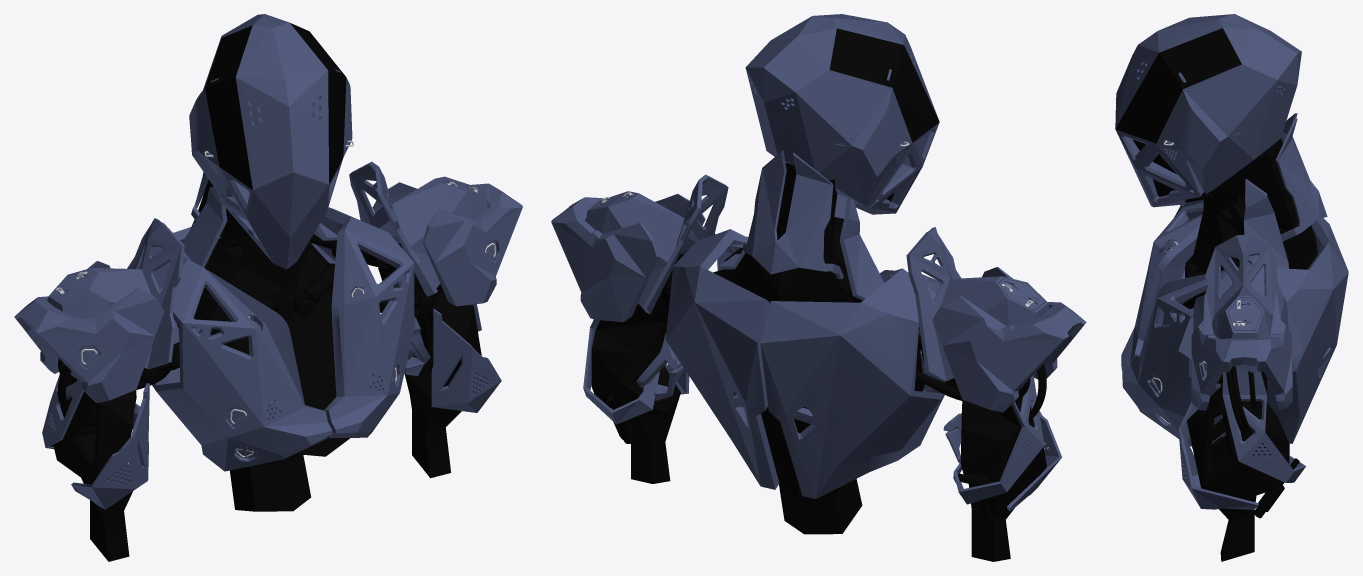
The model's file is Hero-without-animation.glb.
3 renders of one model, left to right at view 1: azimuth 30°, elevation 25°; view 2: azimuth 150°, elevation 25°; view 3: azimuth 270°, elevation 25°, orthographic. The views are drawn at different scales.
Visible parts, largest first — view 1: Line018, Empty, Cylinder003, PolyGroup006, Empty.001, PolyGroup008, Box018, eyes, PolyGroup007, Box020, PolyGroup009, Plane006 (+2 smaller); view 2: Line018, Empty, PolyGroup006, Cylinder003, PolyGroup009, PolyGroup008, Object005, Box018, PolyGroup007, Box020, Empty.001, eyes (+2 smaller); view 3: Empty, Line018, PolyGroup009, Box020, PolyGroup008, Cylinder003, eyes, Empty.001, Object005, Plane006, Line002, Damper022 (+3 smaller).
Boxes of the visible parts, box(x1,y1,x2,y2) form: Line018: box(151, 207, 414, 471); Empty: box(189, 14, 352, 269); Cylinder003: box(177, 180, 350, 511); PolyGroup006: box(14, 261, 164, 403); Empty.001: box(42, 304, 501, 509); PolyGroup008: box(372, 182, 522, 306); Box018: box(47, 218, 184, 368); eyes: box(205, 23, 346, 189); PolyGroup007: box(53, 374, 136, 561); Box020: box(349, 161, 487, 296); PolyGroup009: box(378, 243, 481, 478); Plane006: box(182, 186, 337, 267); Line018: box(665, 229, 945, 498); Empty: box(745, 14, 939, 214); PolyGroup006: box(932, 267, 1086, 412); Cylinder003: box(728, 162, 924, 534); PolyGroup009: box(591, 253, 683, 483); PolyGroup008: box(551, 193, 705, 322); Object005: box(742, 150, 843, 279); Box018: box(906, 227, 1049, 381); PolyGroup007: box(945, 378, 1046, 561); Box020: box(586, 174, 728, 314); Empty.001: box(583, 319, 1061, 511); eyes: box(829, 28, 939, 142); Empty: box(1115, 14, 1301, 207); Line018: box(1121, 202, 1348, 446); PolyGroup009: box(1187, 371, 1289, 561); Box020: box(1178, 235, 1303, 372); PolyGroup008: box(1191, 293, 1292, 410); Cylinder003: box(1169, 138, 1317, 451); eyes: box(1115, 28, 1241, 143); Empty.001: box(1178, 367, 1305, 509); Object005: box(1275, 113, 1327, 241); Plane006: box(1244, 178, 1288, 268); Line002: box(1185, 172, 1237, 210); Damper022: box(1253, 458, 1299, 518).
Size of the model in its own units: 0.5827 by 0.5499 by 0.2523.
